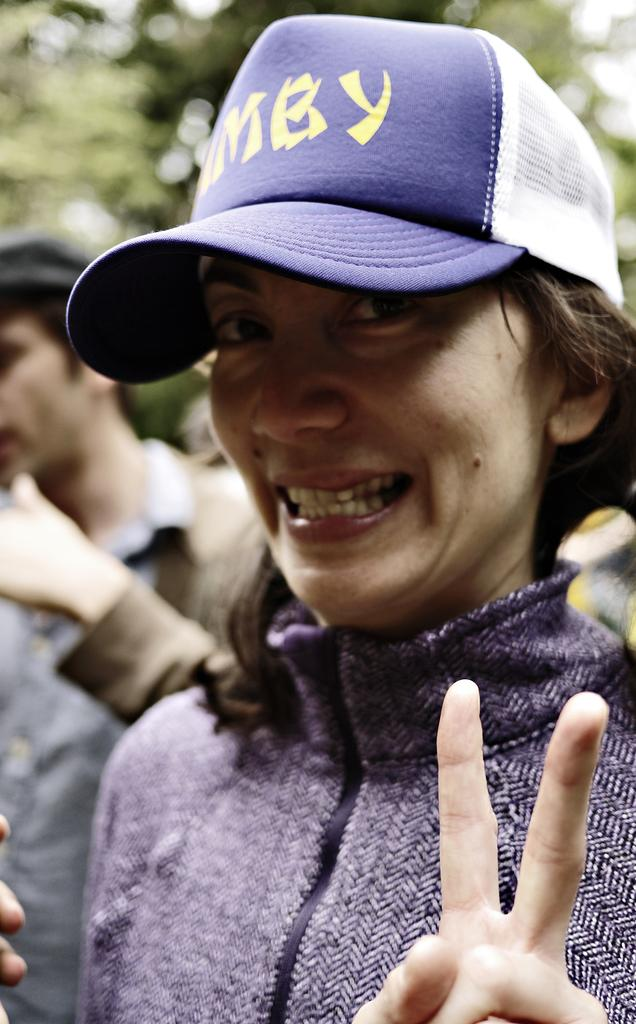Hat: (66, 14, 625, 386)
